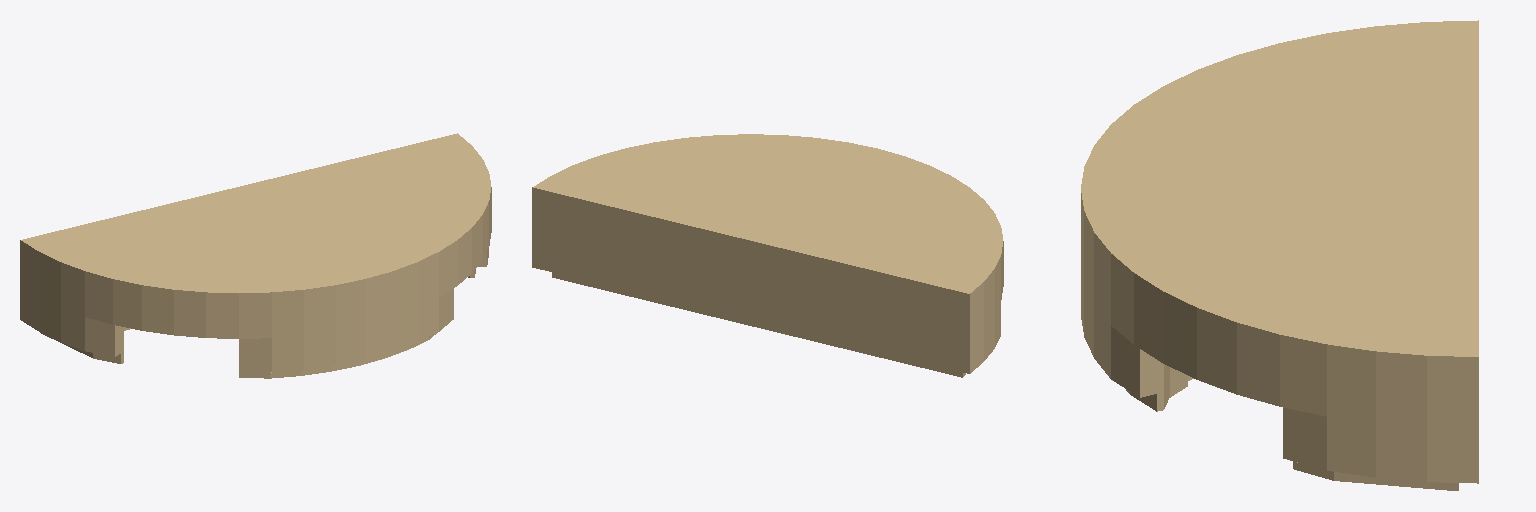
The robot description file, URDF, robot "1748__tan":
<?xml version="1.0"?>
<robot name="1748__tan">
  <link name="1748__tan">
    <inertial>
      <origin xyz="0.000000 0.000623 -0.001576" rpy="0 0 0"/>
      <mass value="0.000331"/>
      <inertia ixx="1.733570164e-09" ixy="-0.000000000e+00" ixz="7.068193711e-27" iyy="5.474926302e-09" iyz="4.222798068e-12" izz="6.655680416e-09"/>
    </inertial>
    <visual>
      <geometry>
        <mesh filename="../meshes/visual/1748.obj" scale="1 1 1"/>
      </geometry>
      <material name="1748__tan_color">
        <color rgba="0.860 0.770 0.610 1.000"/>
      </material>
    </visual>
    <collision>
      <geometry>
        <mesh filename="../meshes/collision/1748_hull.obj" scale="1 1 1"/>
      </geometry>
    </collision>
  </link>
</robot>

--- What the picture shows (computed from the rendered views, not written in the file) ---
The picture shows the robot from 3 angles, left to right: view 1: azimuth 30°, elevation 25°; view 2: azimuth 150°, elevation 25°; view 3: azimuth 270°, elevation 25°; orthographic projection.
Robot: 1748__tan — 1 links, 0 joints (none); root link 1748__tan; default pose: all joints at 0.
Links seen in each view (by area): view 1: 1748__tan; view 2: 1748__tan; view 3: 1748__tan.
Link boxes in pixels (x1=…): 1748__tan: x1=20, y1=133, x2=491, y2=378; 1748__tan: x1=532, y1=134, x2=1003, y2=377; 1748__tan: x1=1081, y1=20, x2=1478, y2=490.
Bounding box of the posed robot: 0.016 × 0.008 × 0.0032 m (x, y, z).
1 mesh visuals loaded from 1 distinct referenced files (1 OBJ).
